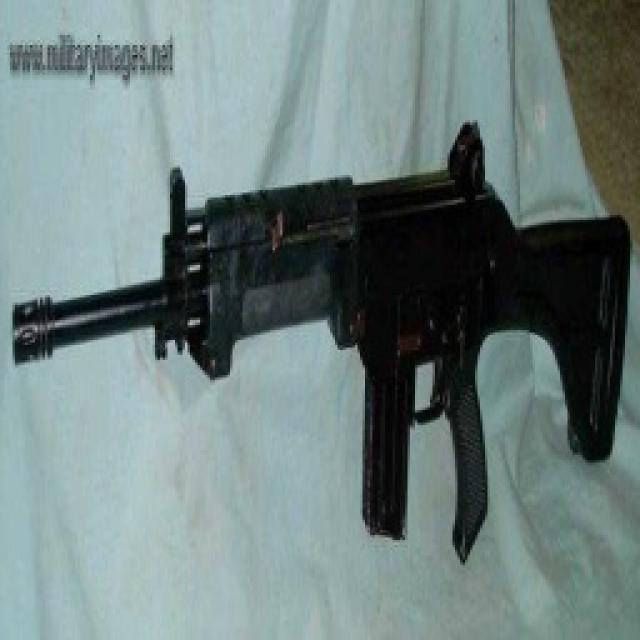long weapon: (0, 155, 638, 583)
